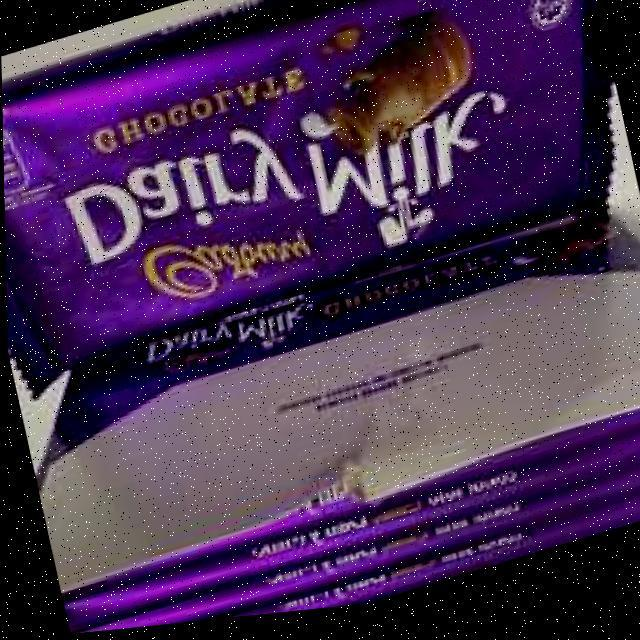cadbury_chocolate: (40, 10, 593, 357)
